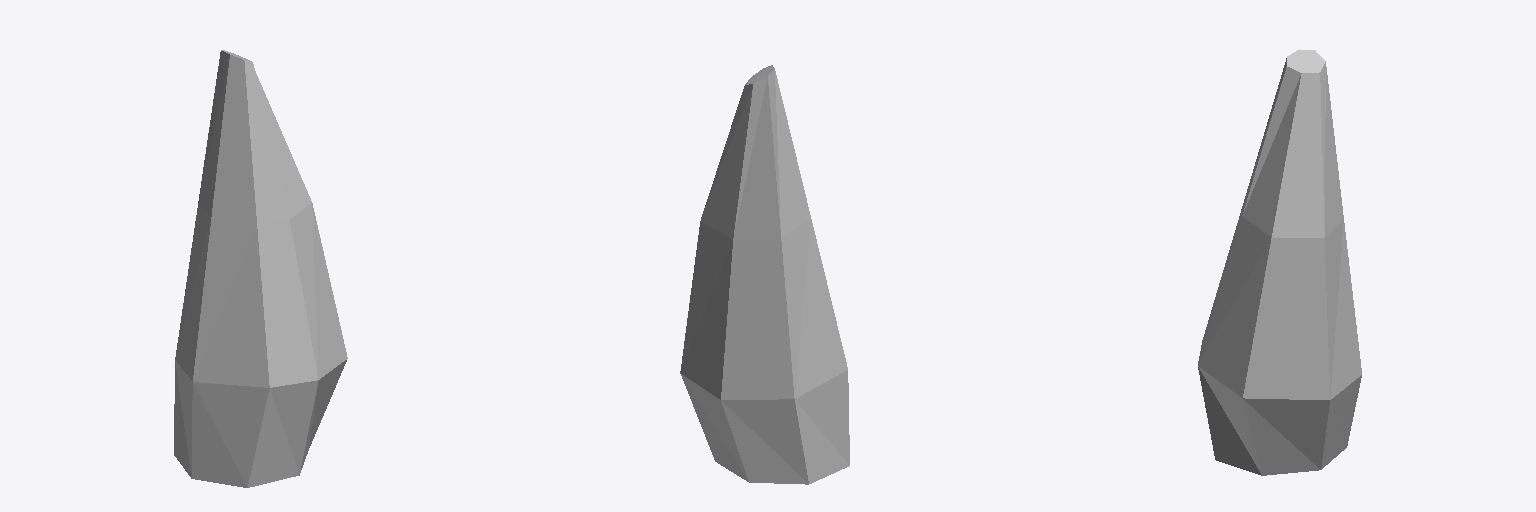
Rendered from RockTall.obj.
The picture shows the model from 3 angles: view 1: azimuth 30°, elevation 25°; view 2: azimuth 150°, elevation 25°; view 3: azimuth 270°, elevation 25°; orthographic projection.
Visible parts, largest first — view 1: RockTall_Cube; view 2: RockTall_Cube; view 3: RockTall_Cube.
Part boxes in pixels (x1,y1,x2,y2): RockTall_Cube: (174, 50, 347, 487); RockTall_Cube: (680, 65, 849, 484); RockTall_Cube: (1198, 49, 1361, 475).
Bounding box in the file's own units: 2.44 × 6.32 × 2.37.